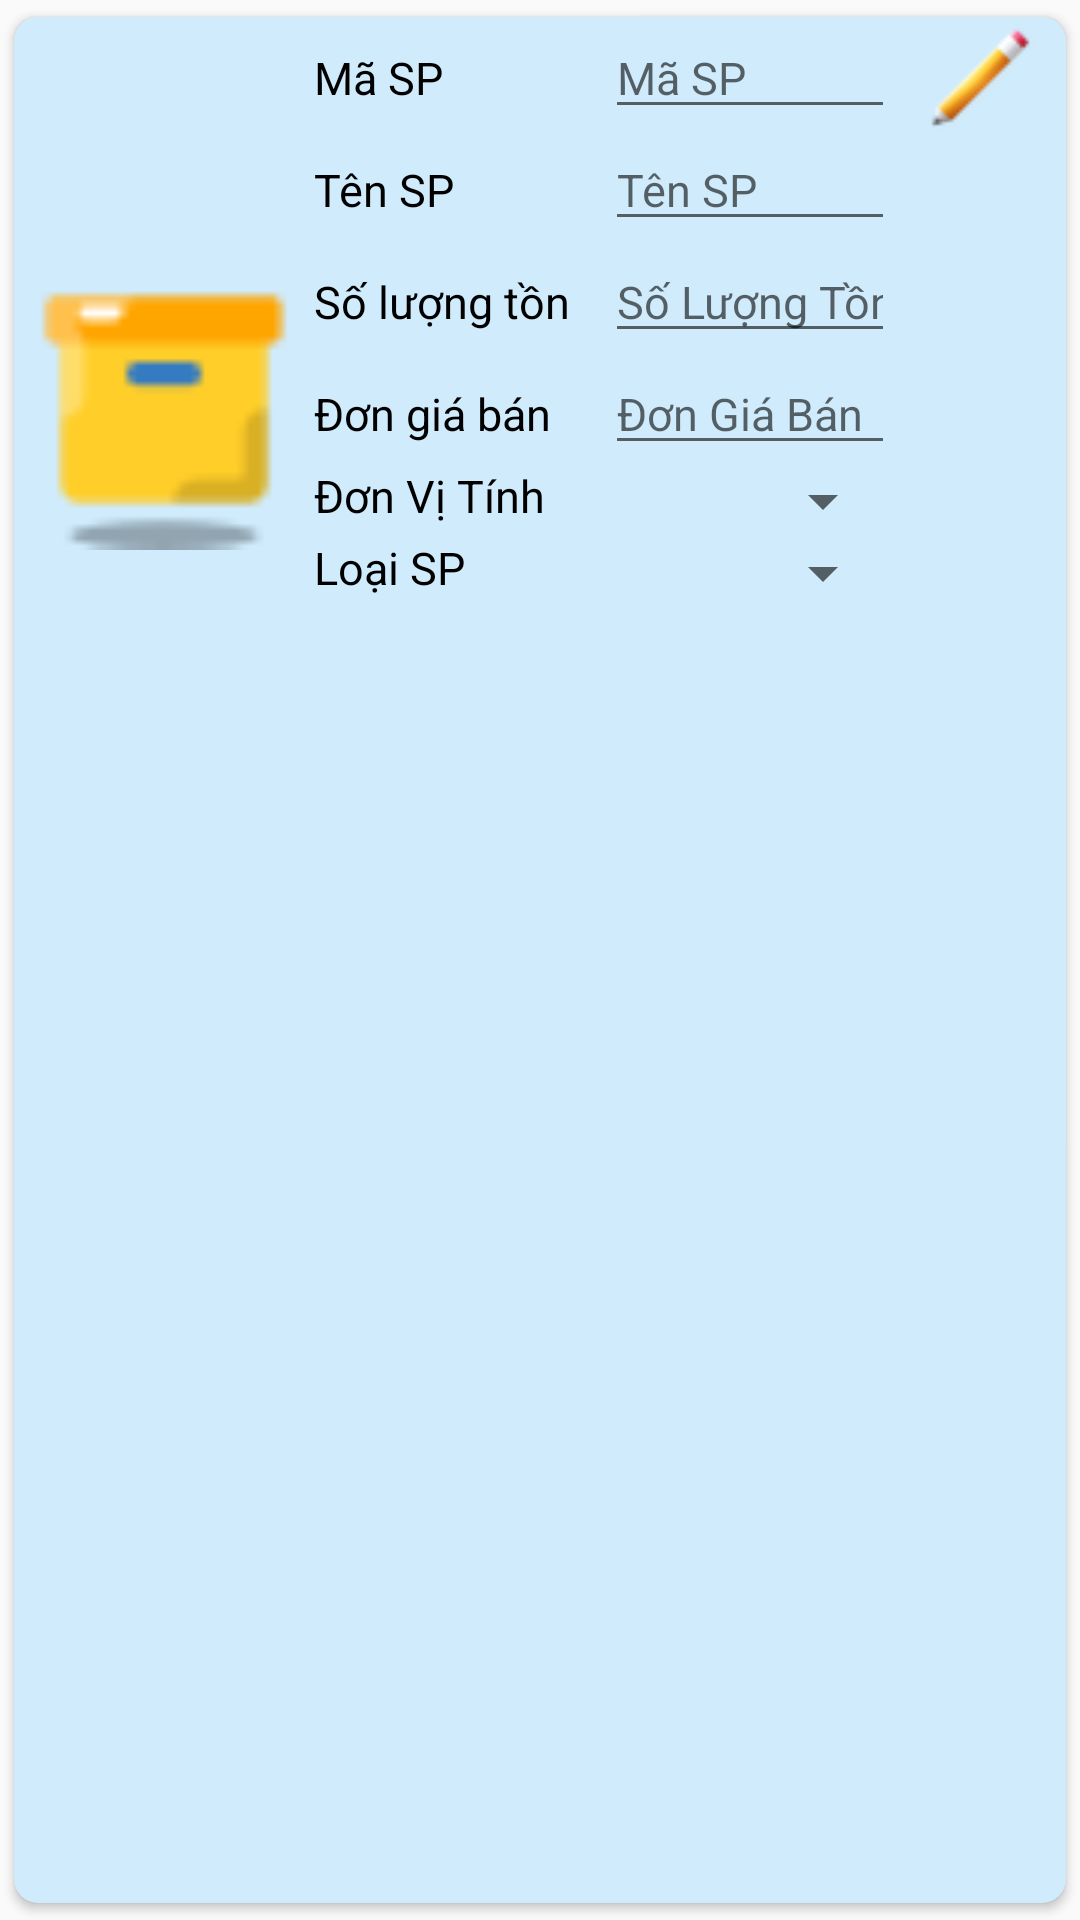

Icons on this 1080px x 1920px Android screen, each with its box as (x1, y1, x2, y2):
edit: (932, 30, 1030, 126)
sanpham: (42, 292, 287, 550)
